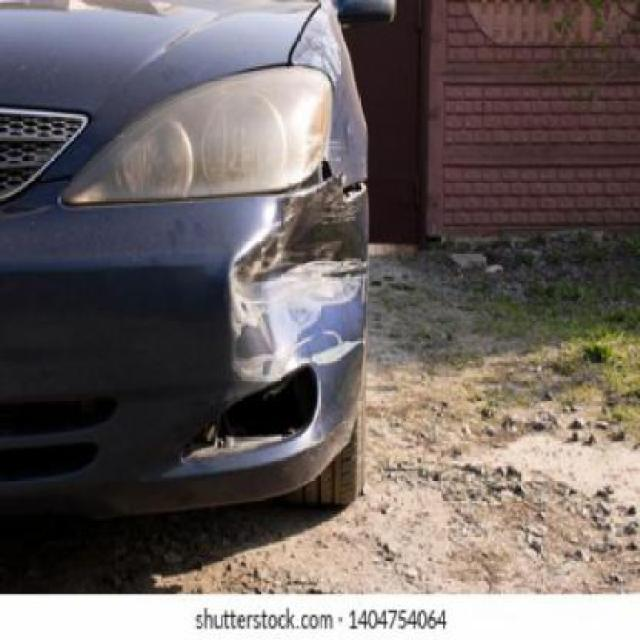front-bumper-dent: (219, 180, 384, 403), (290, 3, 374, 178)
